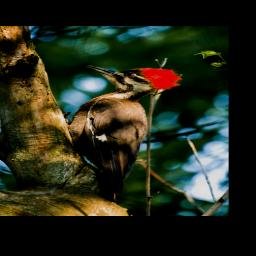Woodpecker: (56, 64, 182, 203)
